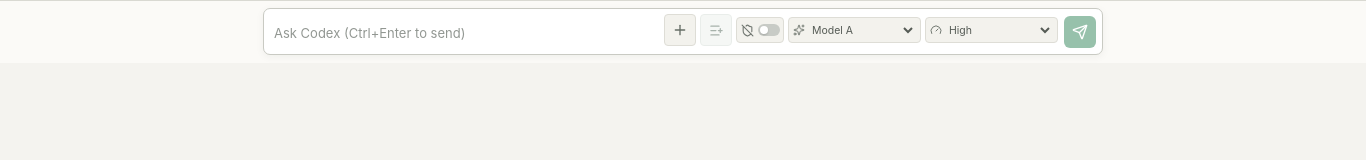
it: Composer › keeps new typing separate while a send is in flight
In the text box named "Message Codex": (466, 33) left=274, top=17, right=658, bottom=49, type "send this"
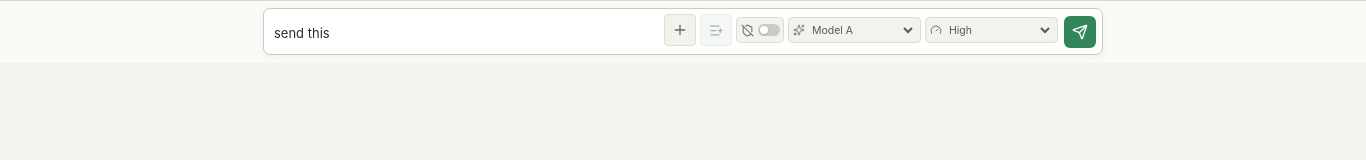
Click the button named "Send message": (1080, 32) left=1064, top=16, right=1096, bottom=48
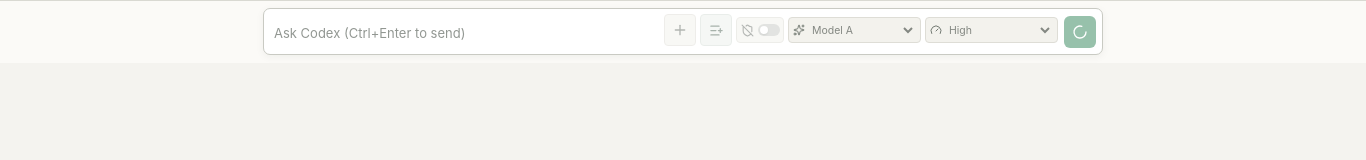
Result: the text box named "Message Codex" is empty
In the text box named "Message Codex": (466, 33) left=274, top=17, right=658, bottom=49, type "next draft"
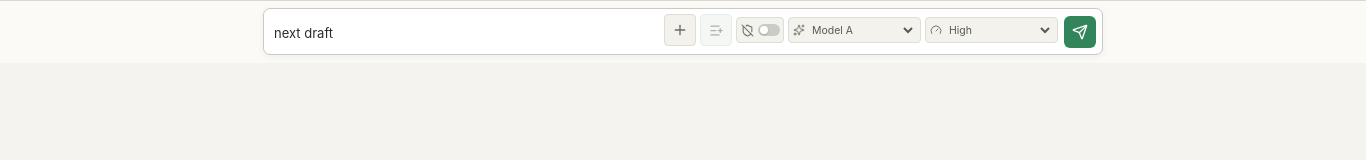
Result: the button named "Send message" is enabled at left=1064, top=16, right=1096, bottom=48
